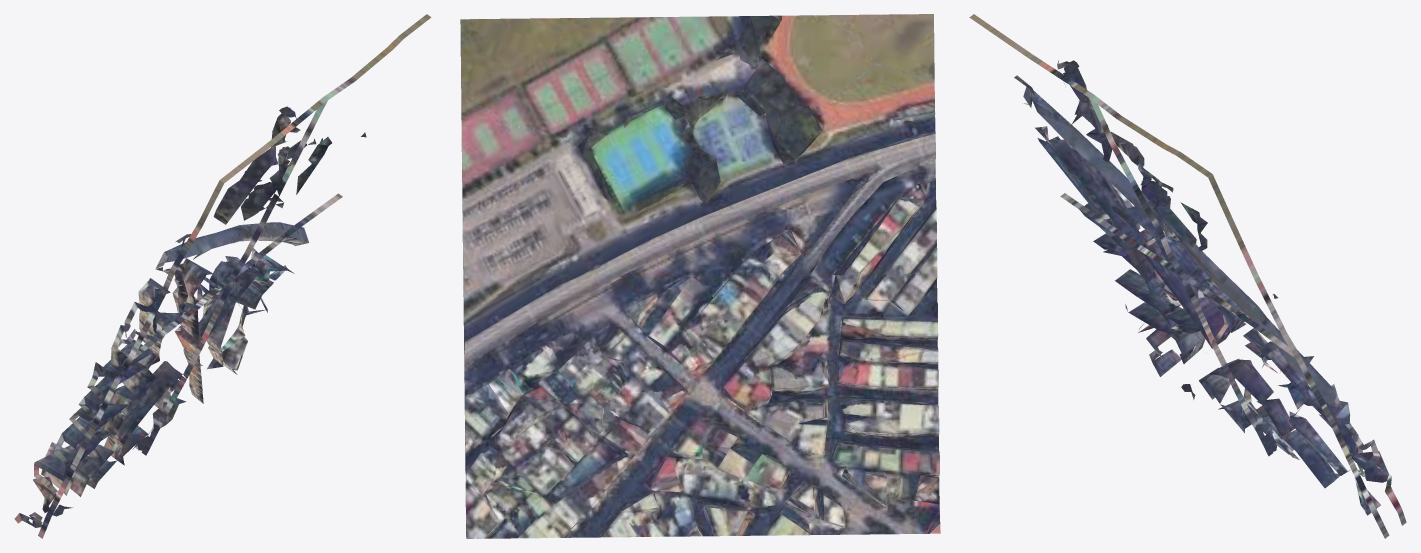
3 renders of one model, left to right at view 1: azimuth 30°, elevation 25°; view 2: azimuth 150°, elevation 25°; view 3: azimuth 270°, elevation 25°, orthographic. The views are drawn at different scales.
Size of the model in its own units: 314 by 282 by 269.
Materials: 2 (2 with a texture image).
